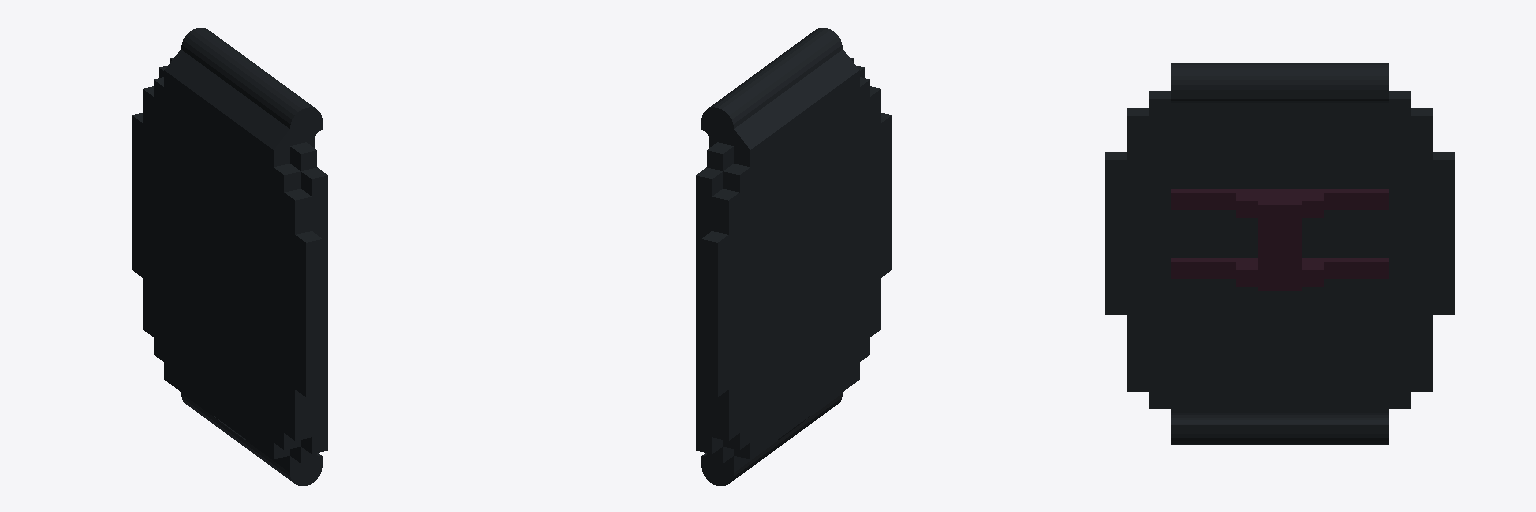
The model's file is shield3.obj.
3 renders of one model, left to right at view 1: azimuth 30°, elevation 25°; view 2: azimuth 150°, elevation 25°; view 3: azimuth 270°, elevation 25°, orthographic.
Bounding box in the file's own units: 4.5 × 22 × 18.4.